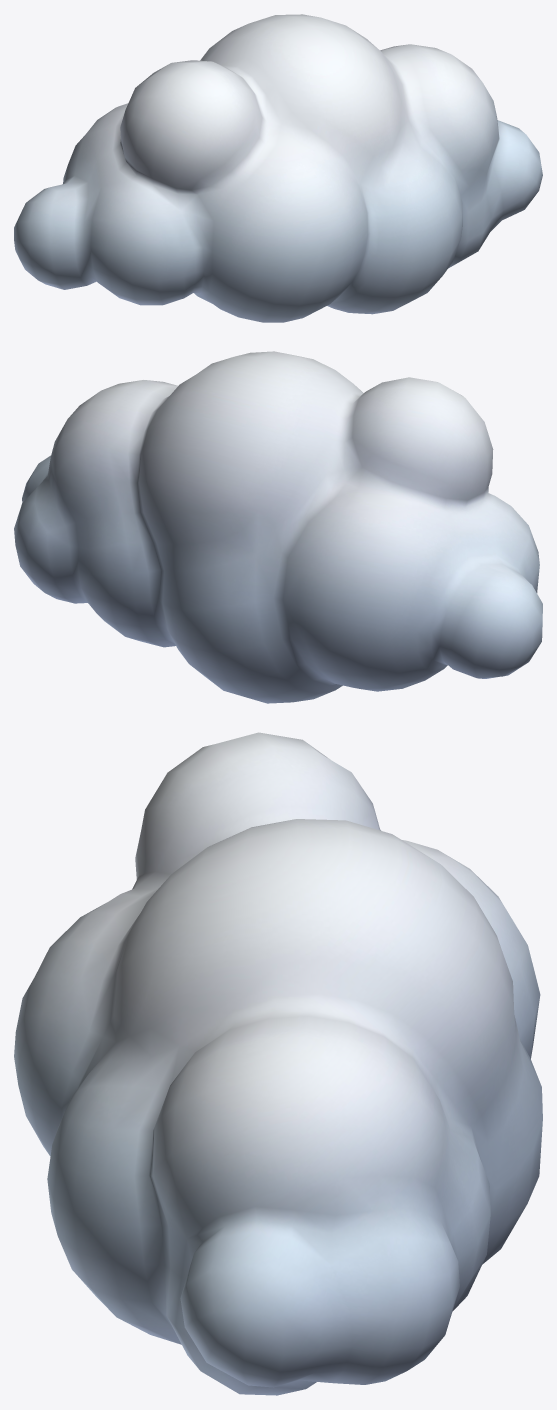
Rendered from cloud-1.glb.
3 views of the same model, one above another, from view 1: azimuth 30°, elevation 25°; view 2: azimuth 150°, elevation 25°; view 3: azimuth 270°, elevation 25° (orthographic). The views are drawn at different scales.
Parts seen in each view (by area): view 1: Cloud1; view 2: Cloud1; view 3: Cloud1.
Part boxes in pixels (x1,y1,x2,y2): Cloud1: (14, 14, 542, 322); Cloud1: (14, 351, 542, 703); Cloud1: (14, 732, 542, 1395).
Size of the model in its own units: 10.44 by 5.77 by 5.78.
1 material, 1 textured.
